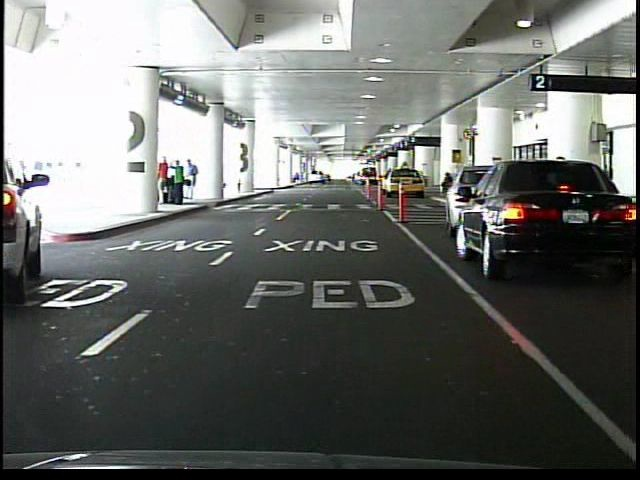person: (171, 159, 185, 205), (160, 154, 172, 206), (185, 158, 198, 201)
